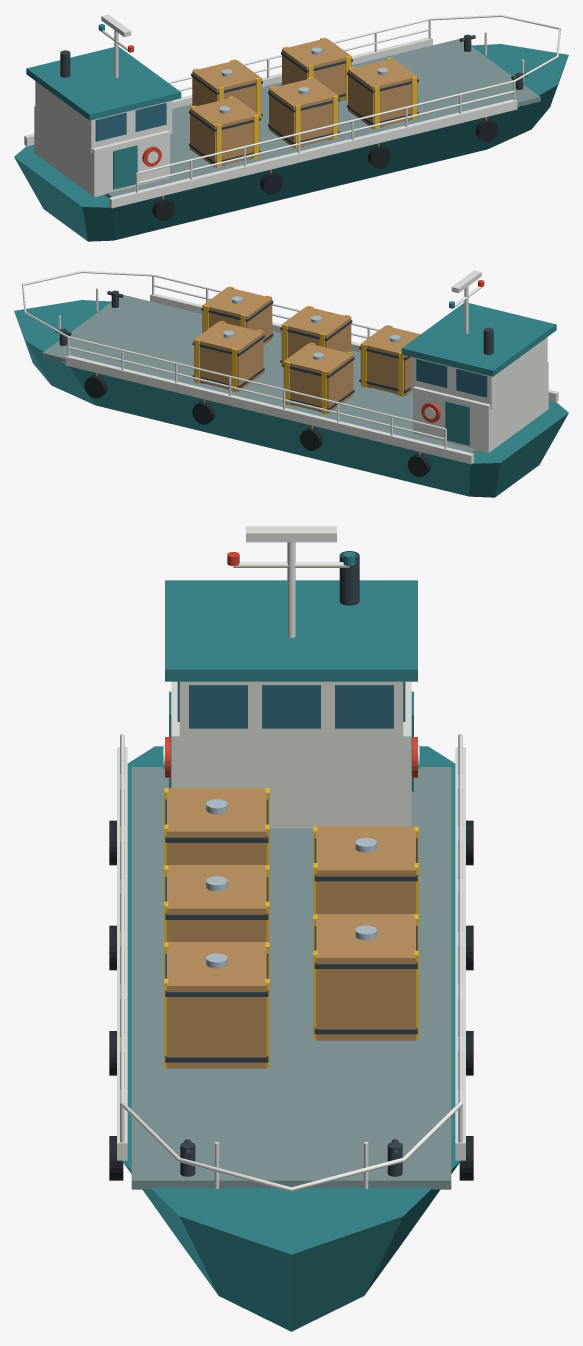
File: cargo-ship.glb
3 renders of one model, top to bottom at view 1: azimuth 30°, elevation 25°; view 2: azimuth 150°, elevation 25°; view 3: azimuth 270°, elevation 25°, orthographic. The views are drawn at different scales.
Visible parts, largest first — view 1: CargoShip_Hull, OpenCargoDeck, WheelhouseRoof, SternCabin, Gunwale, CrateBody.001, CrateBody.002, CrateBody, Wheelhouse, CrateBody.004, CrateBody.003, Gunwale.001 (+13 smaller); view 2: CargoShip_Hull, OpenCargoDeck, WheelhouseRoof, SternCabin, Gunwale.001, CrateBody.003, CrateBody.004, Wheelhouse, CrateBody, CrateBody.001, CrateBody.002, SideRailing.003 (+12 smaller); view 3: OpenCargoDeck, CargoShip_Hull, WheelhouseRoof, SternCabin, CrateBody.004, CrateBody.002, CrateBody.003, Wheelhouse, CrateBody.001, CrateBody, Gunwale, Gunwale.001 (+7 smaller).
Part boxes in pixels (box(x1,y1,x2,y2)): CargoShip_Hull: box(14, 44, 568, 241); OpenCargoDeck: box(104, 39, 540, 197); WheelhouseRoof: box(26, 47, 181, 120); SternCabin: box(34, 106, 169, 196); Gunwale: box(109, 99, 517, 208); CrateBody.001: box(269, 77, 338, 147); CrateBody.002: box(348, 58, 417, 128); CrateBody: box(190, 97, 259, 167); Wheelhouse: box(35, 81, 172, 153); CrateBody.004: box(282, 38, 351, 100); CrateBody.003: box(192, 60, 261, 119); Gunwale.001: box(24, 37, 432, 146); CargoShip_Hull: box(14, 300, 568, 497); OpenCargoDeck: box(42, 295, 478, 453); WheelhouseRoof: box(401, 303, 556, 376); SternCabin: box(413, 362, 548, 452); Gunwale.001: box(65, 355, 473, 464); CrateBody.003: box(283, 343, 353, 413); CrateBody.004: box(194, 321, 263, 391); Wheelhouse: box(410, 337, 547, 409); CrateBody: box(360, 325, 420, 395); CrateBody.001: box(281, 306, 351, 365); CrateBody.002: box(202, 287, 272, 345); SideRailing.003: box(68, 336, 446, 429); OpenCargoDeck: box(131, 767, 451, 1189); CargoShip_Hull: box(122, 746, 460, 1331); WheelhouseRoof: box(165, 580, 417, 681); SternCabin: box(171, 681, 411, 828); CrateBody.004: box(316, 914, 415, 1040); CrateBody.002: box(167, 942, 266, 1068); CrateBody.003: box(316, 826, 415, 913); Wheelhouse: box(179, 681, 403, 749); CrateBody.001: box(167, 865, 266, 941); CrateBody: box(167, 788, 266, 864); Gunwale: box(117, 747, 127, 1160); Gunwale.001: box(455, 747, 465, 1160).
Bounding box in the file's own units: 14.5 × 5.04 × 4.39.
